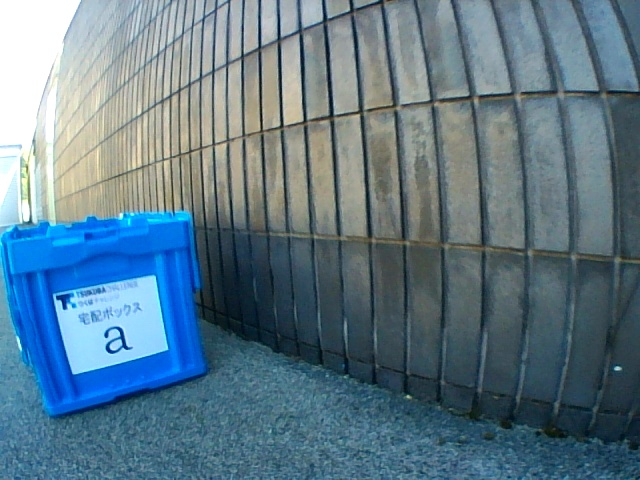blue_box: (1, 211, 206, 416)
tag_a: (72, 301, 145, 355)
